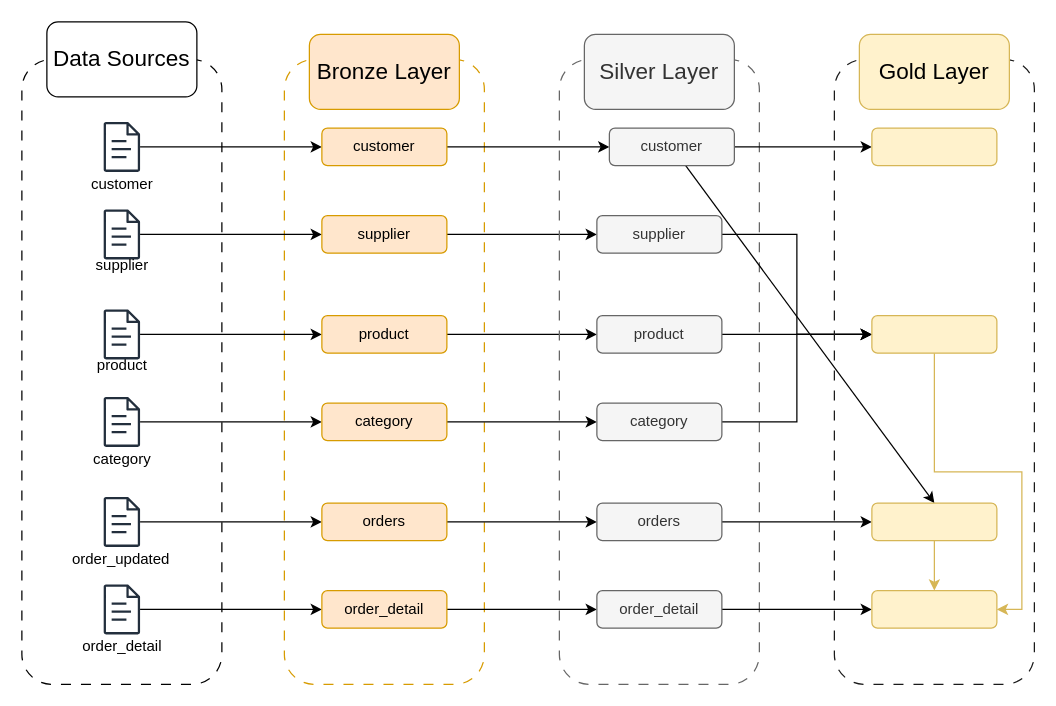
Some shapes in this 1056 by 706 pixel diagram are drawn without their labels. The centre of each missing label's shape, as x and y in pixels:
"dim_customers" belongs at (934,146).
"dim_orders" belongs at (934,521).
"dim_products" belongs at (934,333).
"facts_sales" belongs at (934,608).
